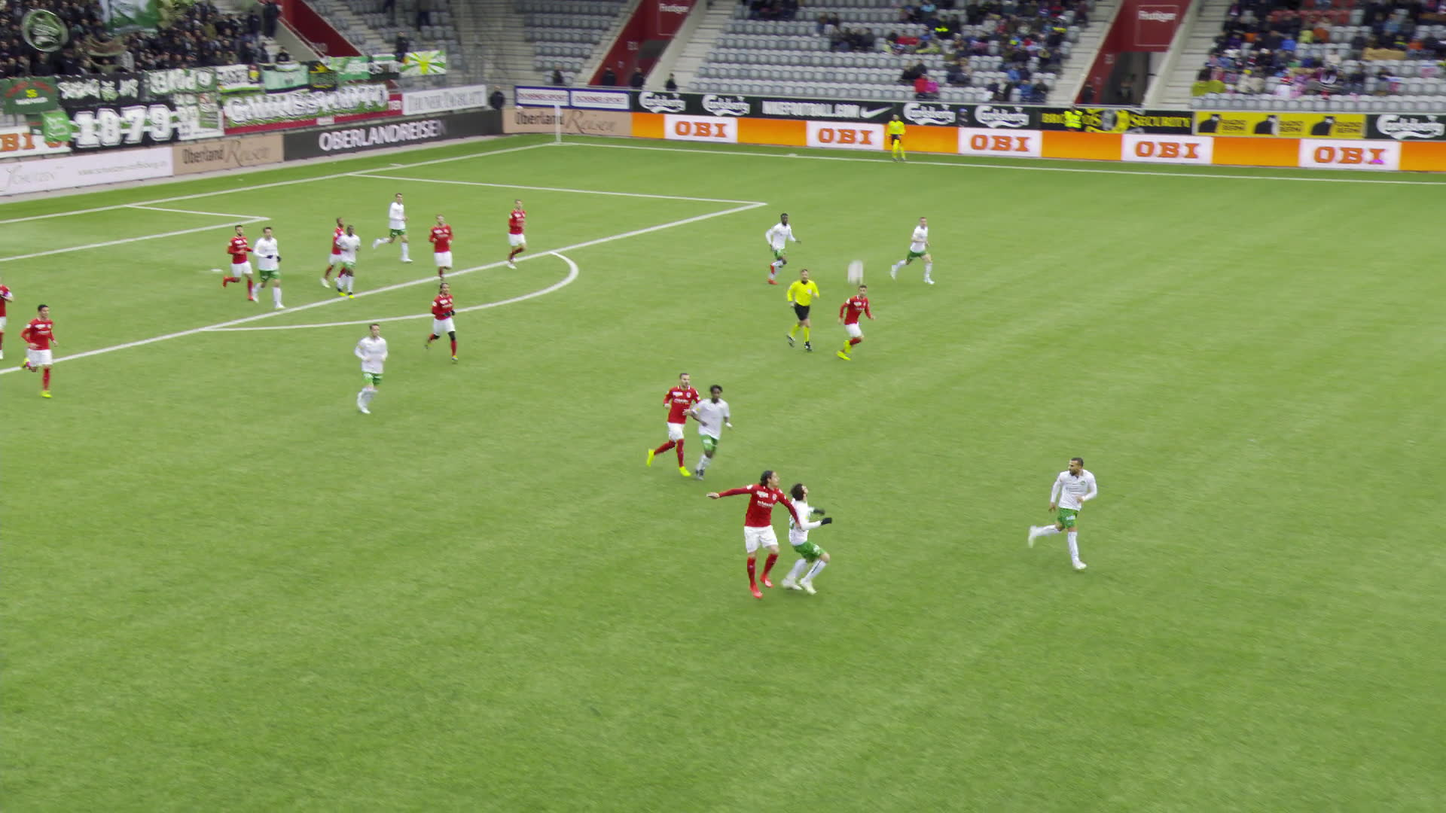ball: (845, 257, 866, 286)
player: (705, 468, 800, 600), (1030, 456, 1097, 574), (642, 373, 705, 480), (779, 482, 831, 594), (693, 385, 740, 488), (21, 302, 63, 396), (358, 323, 395, 419), (834, 282, 876, 361), (423, 280, 461, 362), (370, 192, 413, 263), (253, 227, 288, 313), (218, 223, 256, 301), (764, 211, 803, 286), (896, 217, 936, 290), (319, 215, 349, 293), (429, 212, 459, 288), (332, 223, 362, 298), (506, 199, 532, 272), (0, 279, 14, 362)
referee: (784, 266, 822, 352), (884, 113, 908, 161)
